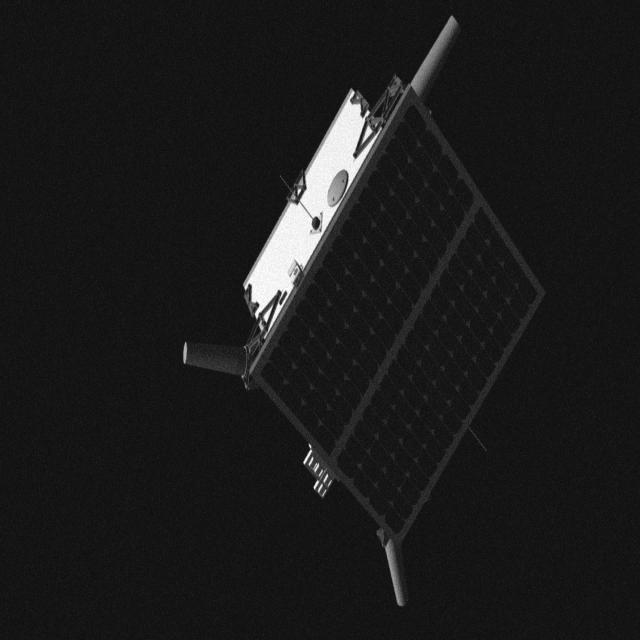satellite: (176, 6, 578, 614)
